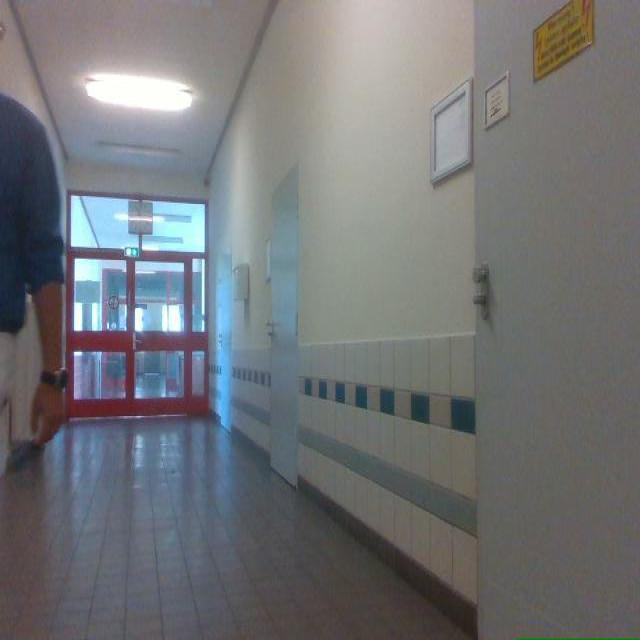humans: (0, 93, 66, 457)
